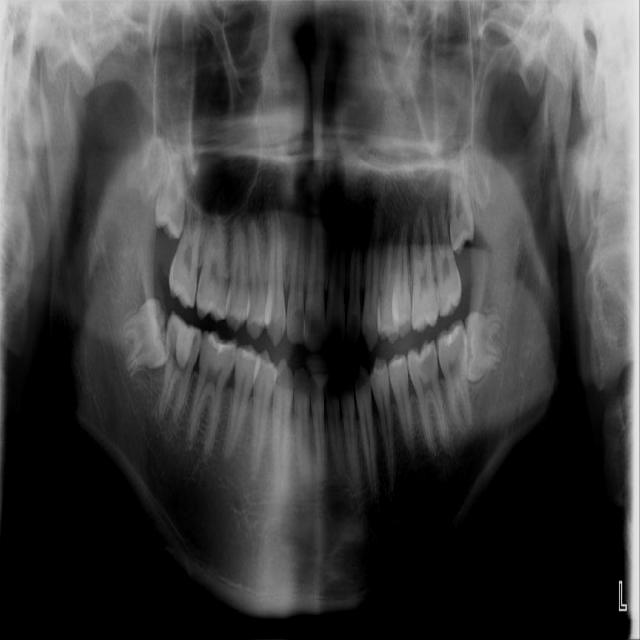Filling: (165, 311, 202, 369), (206, 332, 240, 355), (410, 341, 437, 365), (241, 345, 258, 361)
impacted tooth: (122, 299, 173, 377), (151, 144, 187, 238), (463, 315, 507, 382), (449, 151, 476, 253)
